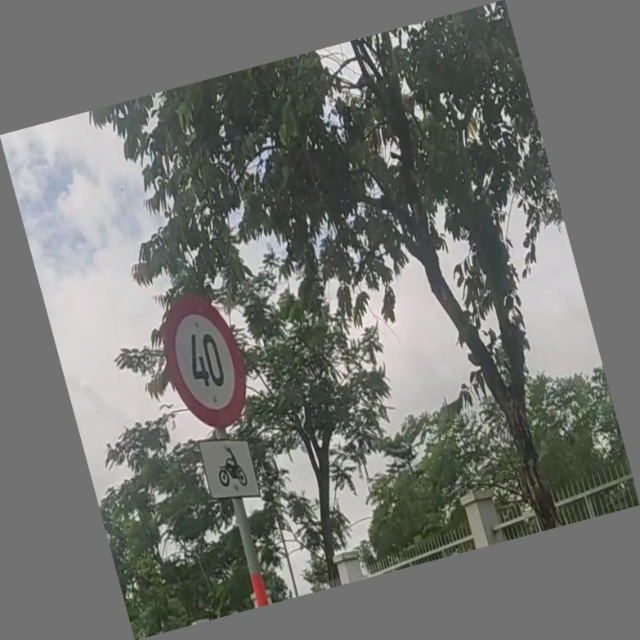P.127*40: (149, 280, 263, 445)
S.505a*Xe may: (191, 421, 269, 516)
